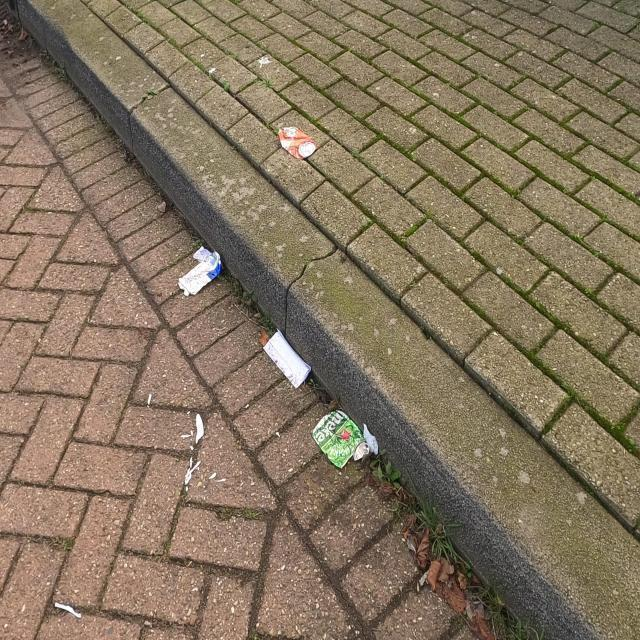Can-Metal: (312, 408, 371, 470), (177, 250, 224, 296), (277, 126, 318, 160)
Paper: (262, 327, 312, 389), (363, 422, 378, 455), (192, 245, 212, 262)
